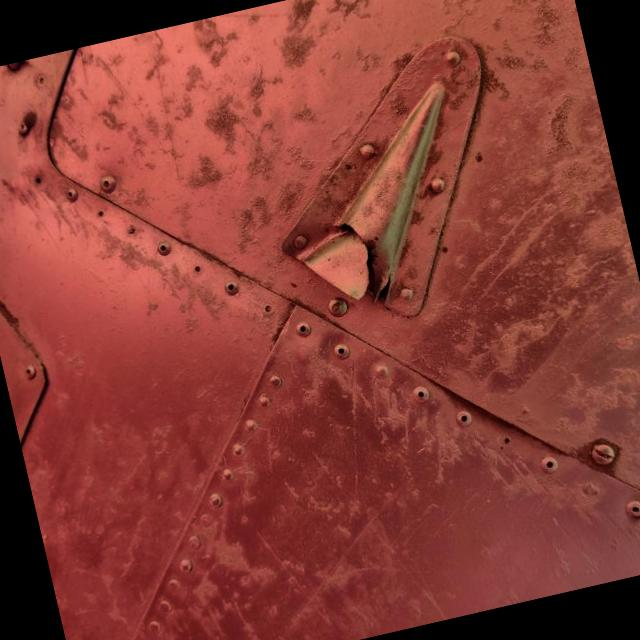Missing Fastener: (119, 210, 149, 243), (28, 164, 55, 190), (258, 298, 284, 324), (185, 258, 208, 284), (90, 200, 112, 222), (496, 434, 516, 452)
